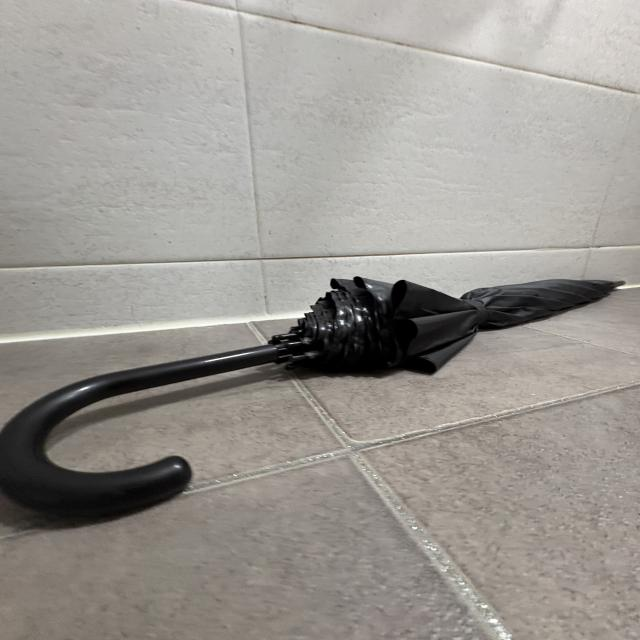umbrella: (0, 271, 627, 505)
